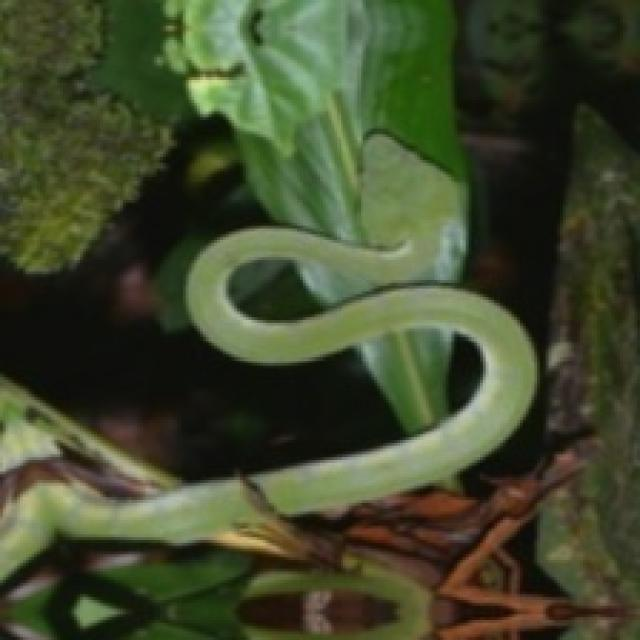north ph temple pitviper: (1, 136, 535, 561)
